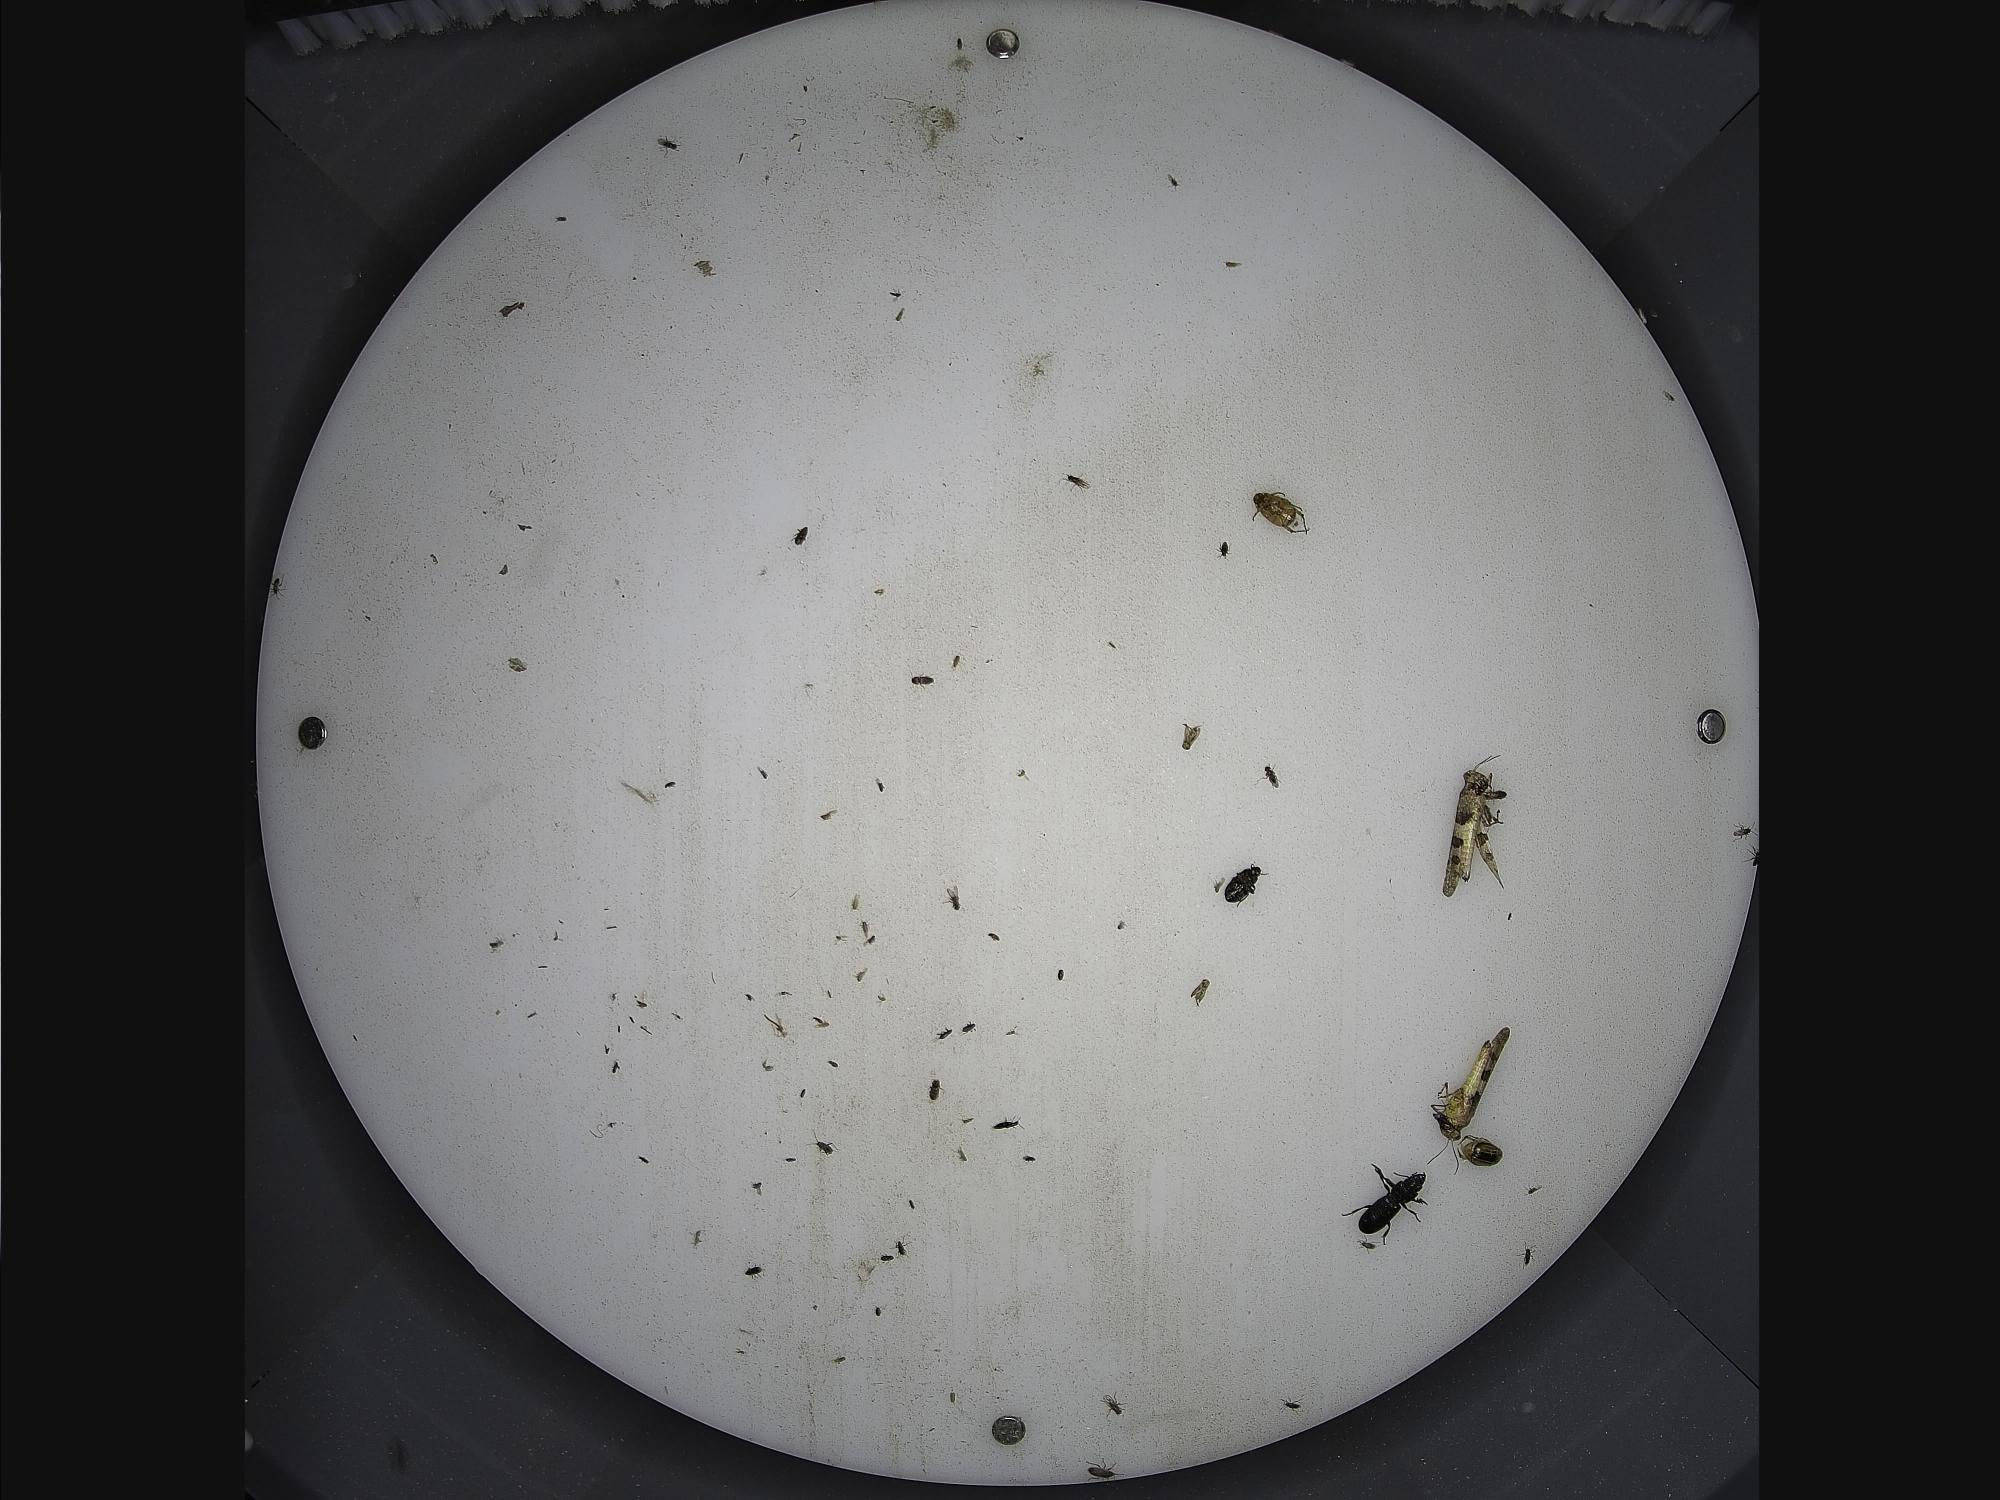Tiny fly: (1180, 717, 1211, 761), (1057, 468, 1094, 498), (1257, 761, 1287, 796), (937, 878, 964, 915), (1096, 1387, 1126, 1420), (652, 131, 685, 159), (987, 1114, 1028, 1131), (904, 671, 935, 692), (789, 523, 811, 551), (748, 1179, 764, 1197), (811, 1019, 831, 1030)
beetle: (1337, 1160, 1431, 1254), (1217, 856, 1276, 911)
insect: (1244, 484, 1315, 542), (1452, 1130, 1510, 1172)
locust: (1419, 1015, 1521, 1180), (1439, 745, 1513, 909)
